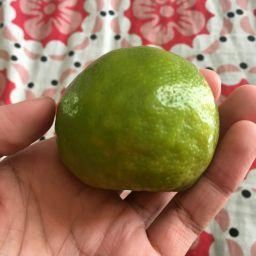Unripe: (55, 46, 220, 191)
